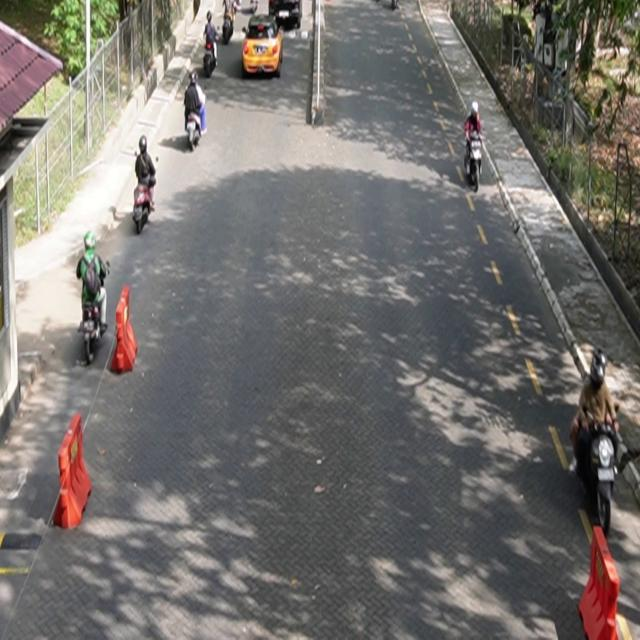car: (243, 14, 285, 78)
